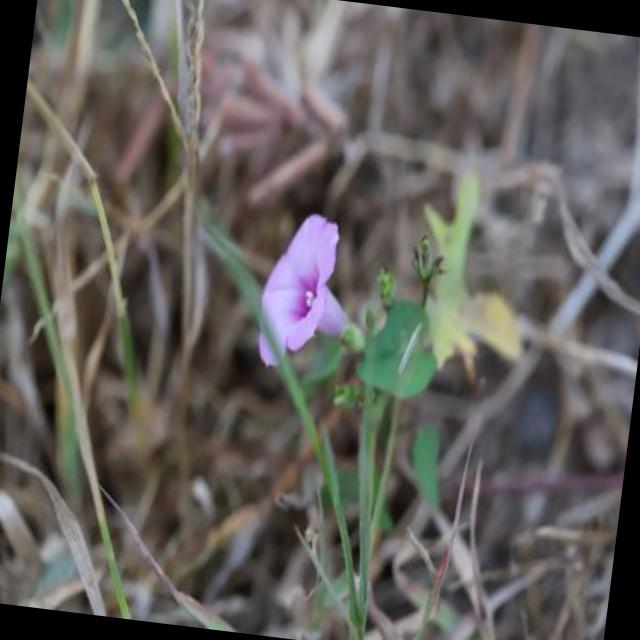ipomoea: (247, 202, 364, 382)
